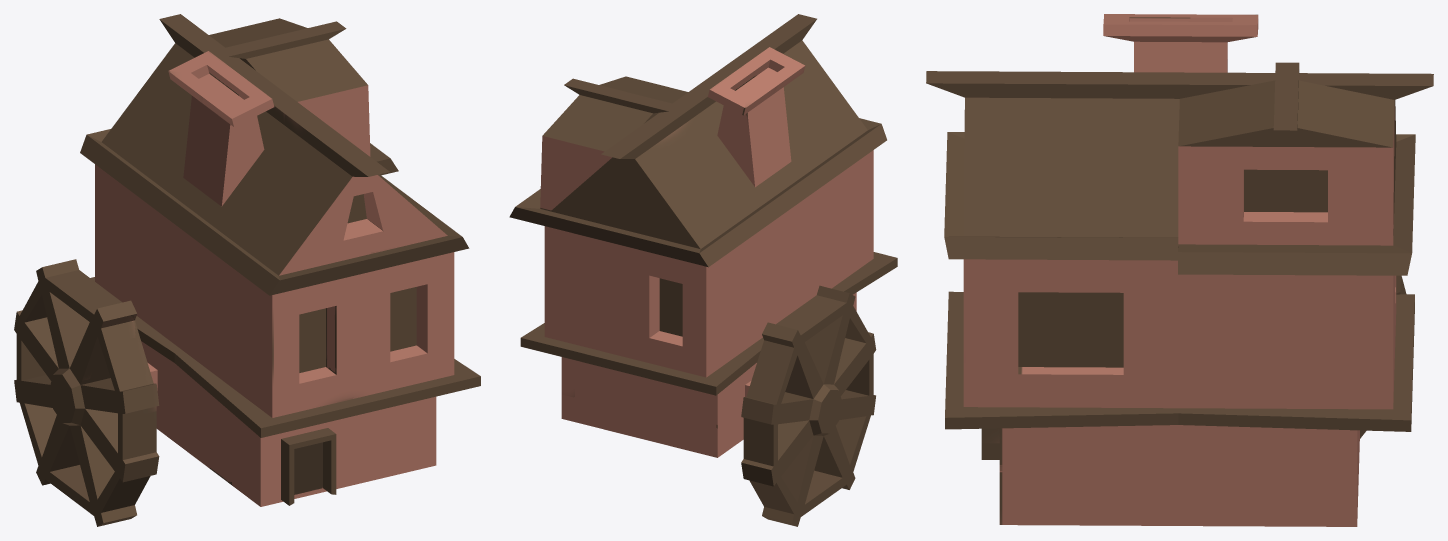
Rendered from waterwill.fbx.
The picture shows the model from 3 angles, left to right: view 1: azimuth 30°, elevation 25°; view 2: azimuth 150°, elevation 25°; view 3: azimuth 270°, elevation 25°; orthographic projection. The views are drawn at different scales.
Parts seen in each view (by area): view 1: Watermill; view 2: Watermill; view 3: Watermill.
Part boxes in pixels (x1,y1,x2,y2): Watermill: (14, 14, 480, 526); Watermill: (509, 14, 897, 526); Watermill: (926, 14, 1433, 526).
Size of the model in its own units: 1494 by 2040 by 1853.
